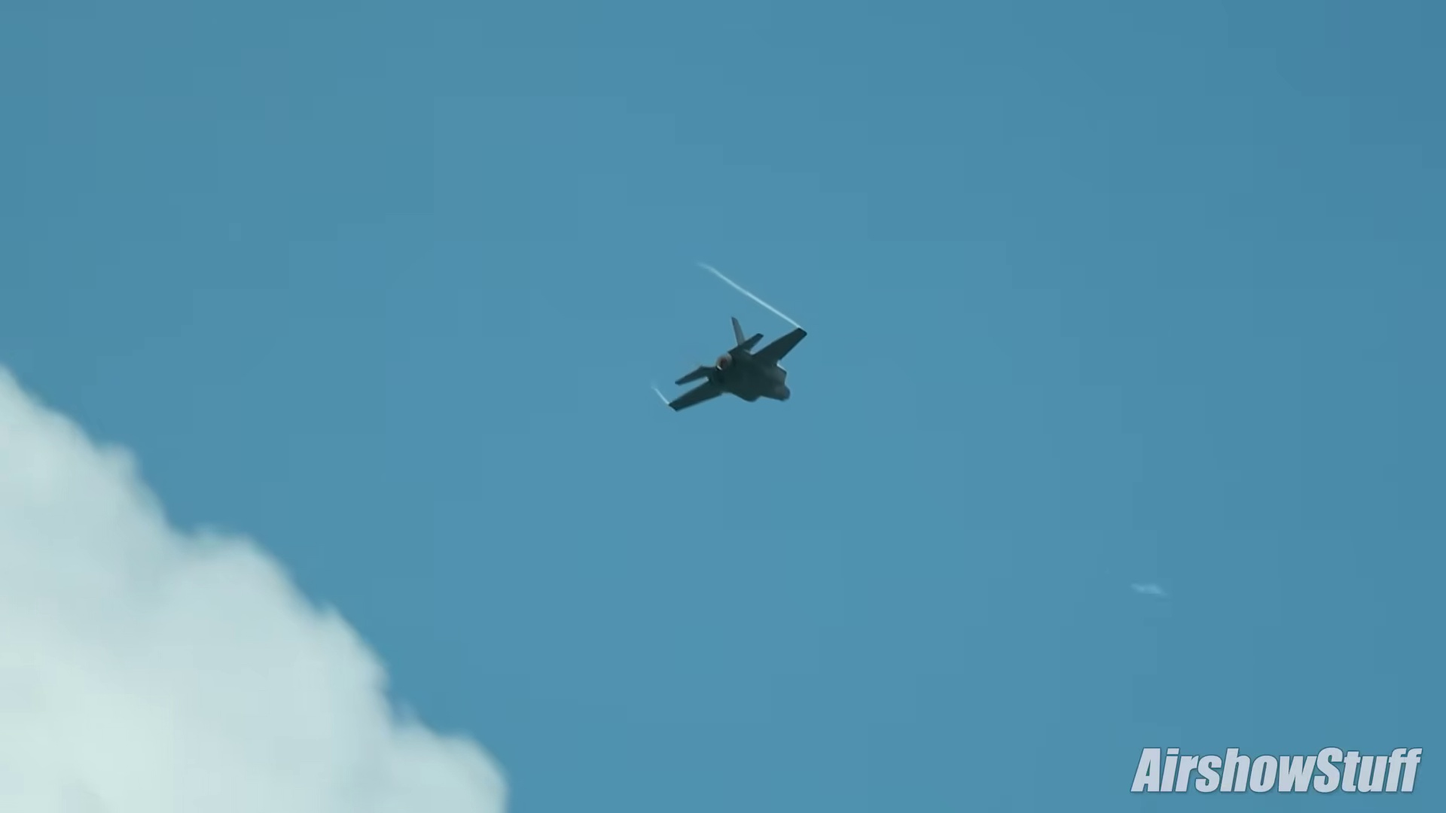F35: (661, 315, 810, 418)
